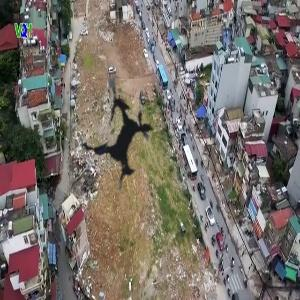drone: (38, 53, 205, 220)
